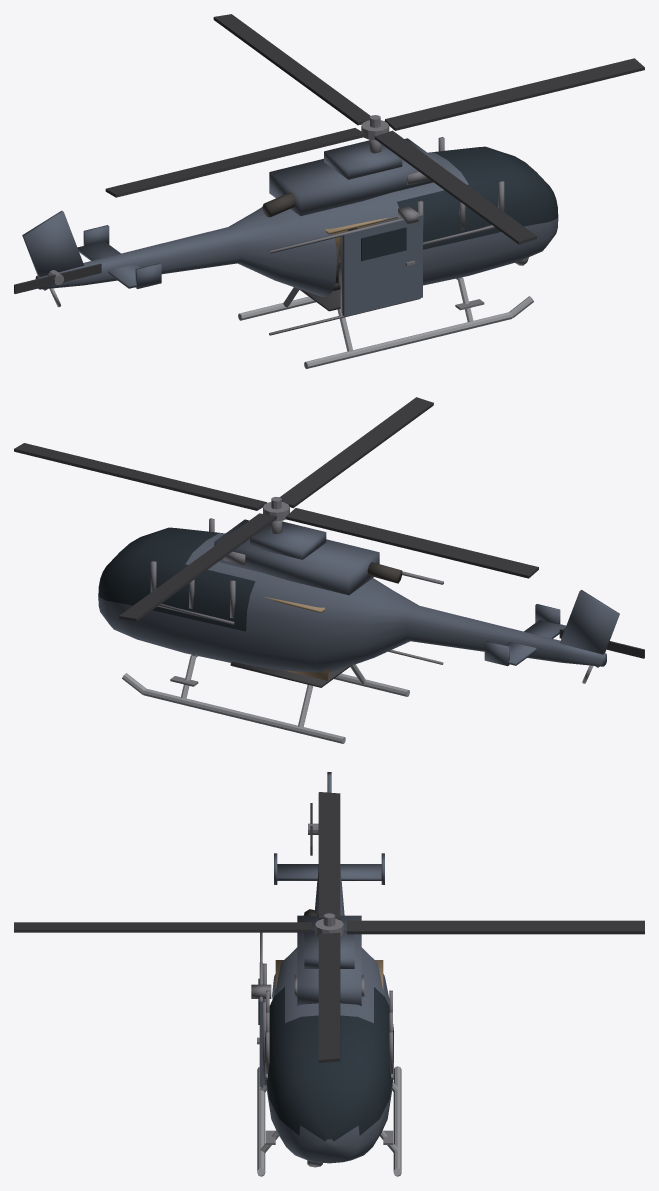
File: helicopter.glb
3 renders of one model, top to bottom at view 1: azimuth 30°, elevation 25°; view 2: azimuth 150°, elevation 25°; view 3: azimuth 270°, elevation 25°, orthographic. The views are drawn at different scales.
Parts seen in each view (by area): view 1: Hull, MainRotor, Door, Skids, TailRotor; view 2: Hull, MainRotor, Skids; view 3: Hull, MainRotor, Skids.
Boxes of the visible parts, x1=… form: Hull: x1=22, y1=137, x2=558, y2=335; MainRotor: x1=105, y1=14, x2=644, y2=244; Door: x1=342, y1=214, x2=422, y2=316; Skids: x1=238, y1=277, x2=533, y2=368; TailRotor: x1=14, y1=263, x2=101, y2=293; Hull: x1=98, y1=518, x2=619, y2=687; MainRotor: x1=14, y1=397, x2=538, y2=621; Skids: x1=122, y1=654, x2=409, y2=743; Hull: x1=251, y1=772, x2=393, y2=1167; MainRotor: x1=14, y1=792, x2=644, y2=1062; Skids: x1=257, y1=1066, x2=401, y2=1176.
Size of the model in its own units: 10.54 by 3.22 by 8.79.
